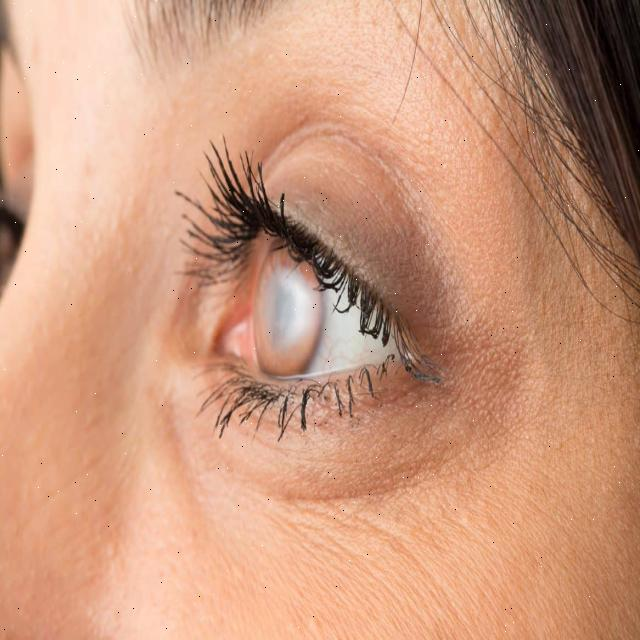Cataract: (248, 245, 324, 388)
